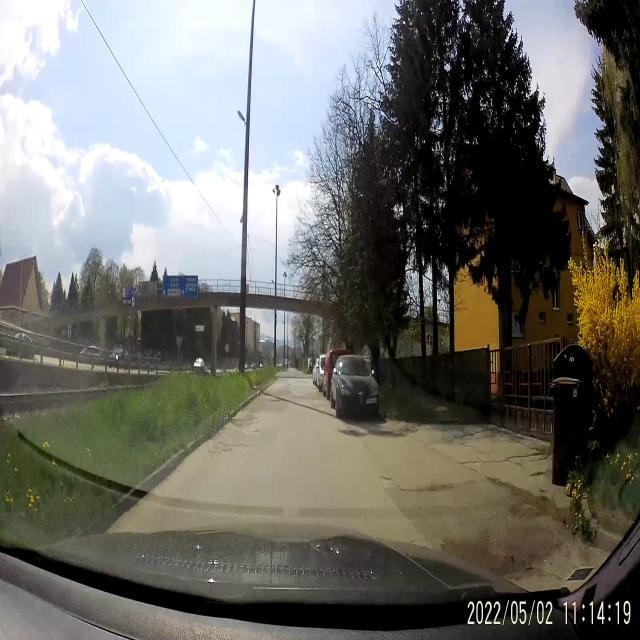Pothole: (206, 436, 248, 469), (230, 410, 262, 432)
